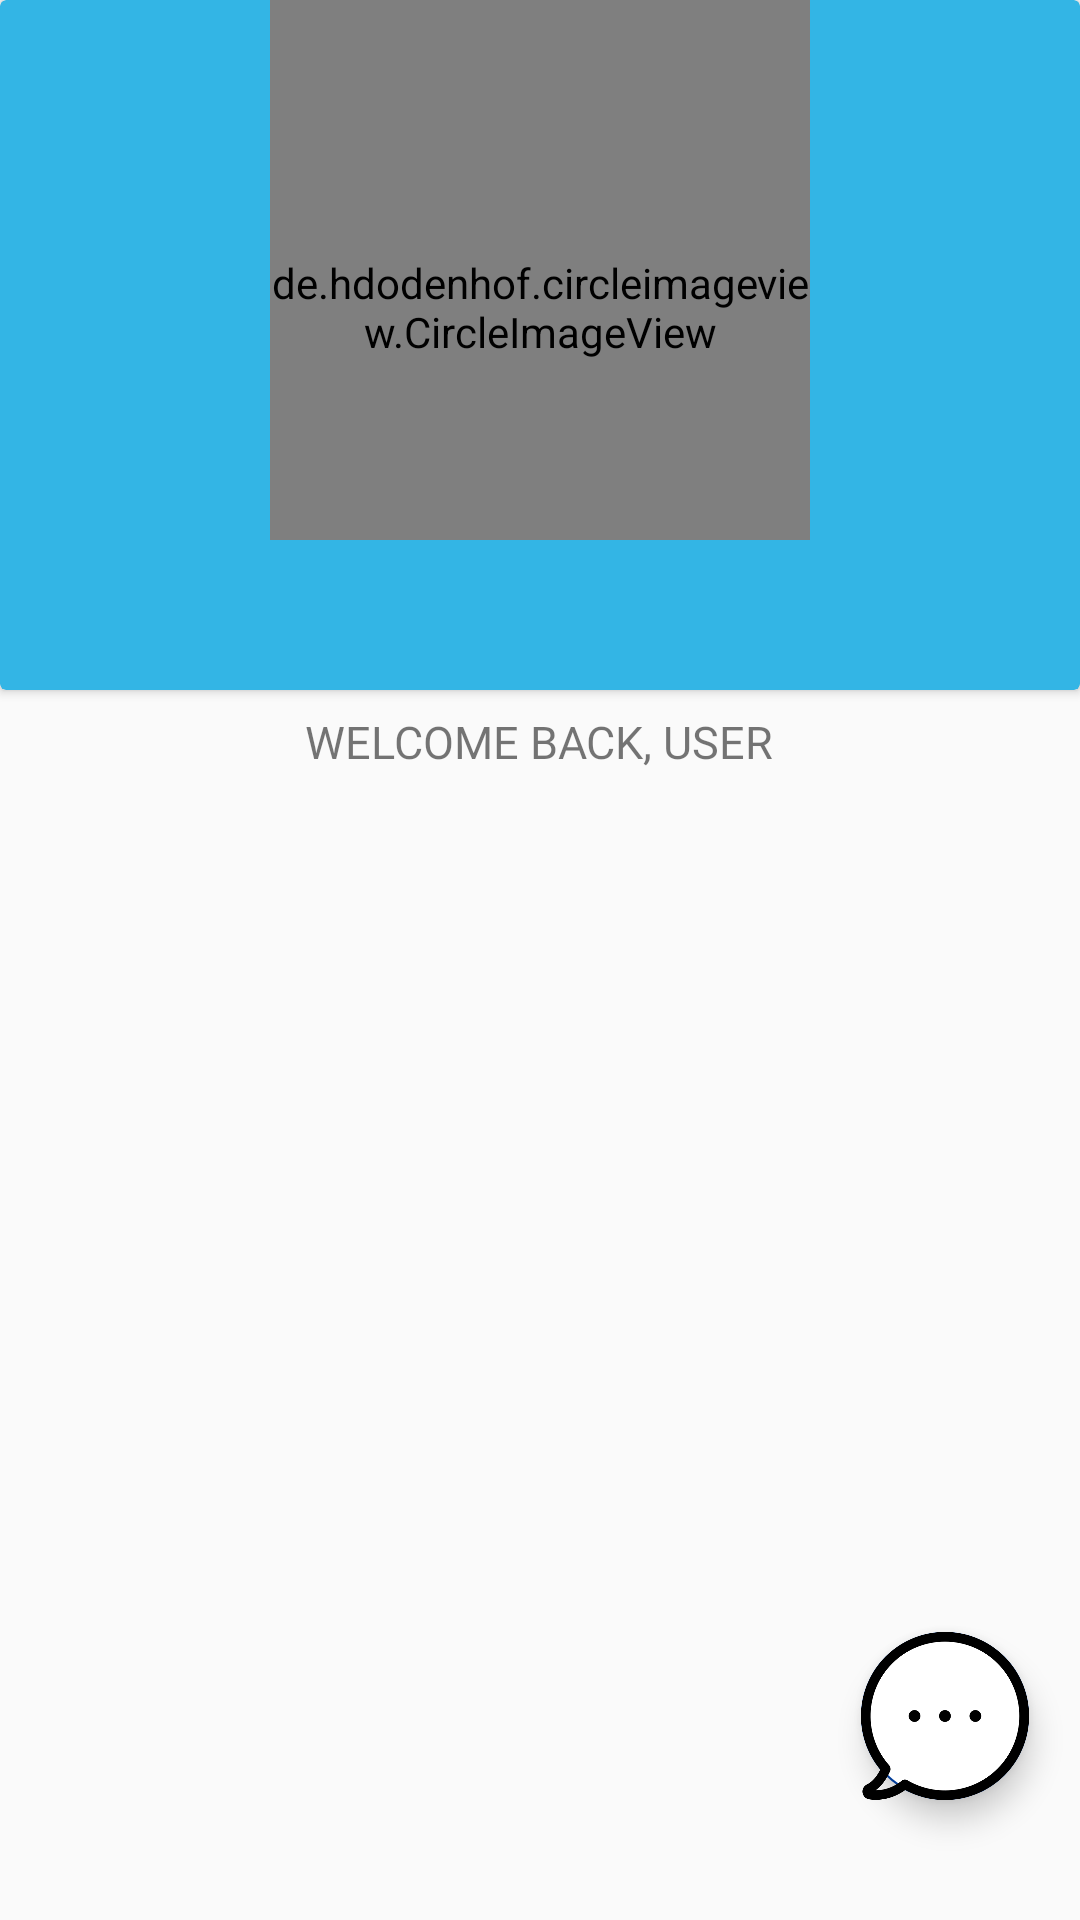

Where icons sit on this 1080w x 1920h app screen, as (x1, y1, x2, y2):
chat: (861, 1632, 1029, 1800)
